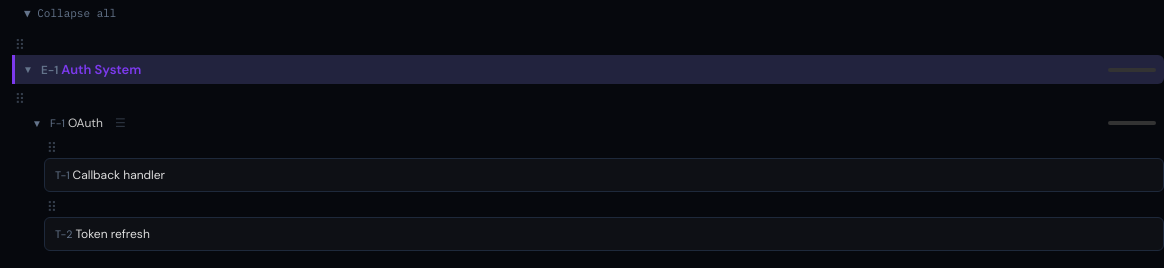
it: BacklogTree › expands all epics and features when expand all is clicked
Collapse first
Click the button "▼ Collapse all" at (70, 13), box [20, 4, 120, 22]
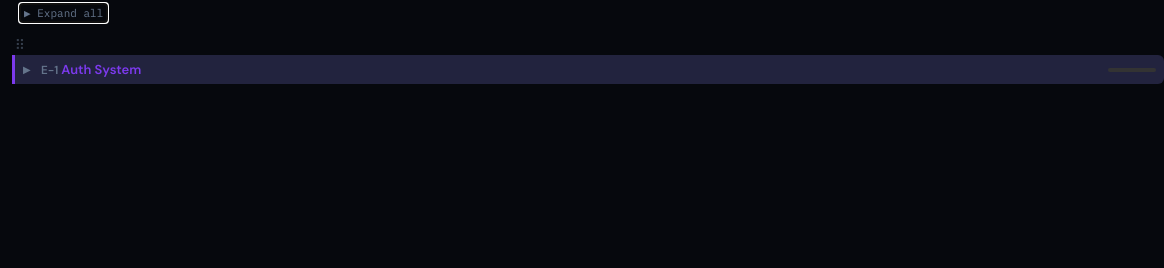
Expected: the text "OAuth" is gone
Expand all
Click the button "▶ Expand all" at (64, 13), box [20, 4, 107, 22]
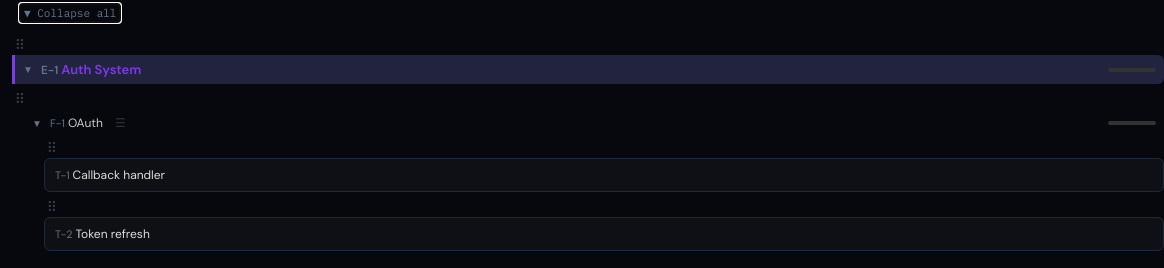
Expected: the text "OAuth" is shown, [68, 115, 103, 131]
Expected: the text "Callback handler" is shown, [73, 167, 165, 183]
